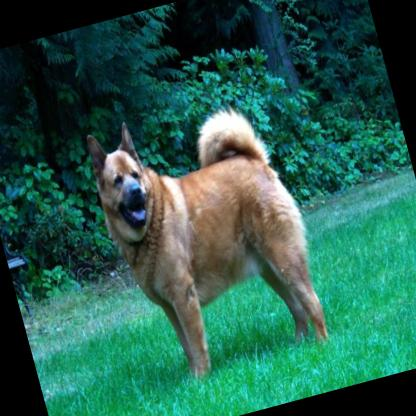chow: (73, 80, 338, 397)
